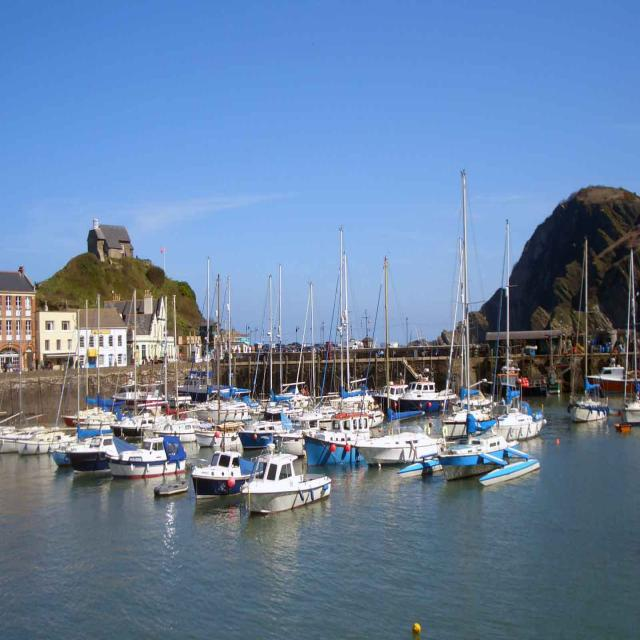houseboat: (246, 442, 324, 516), (438, 436, 503, 488), (478, 390, 538, 446), (65, 418, 117, 478), (188, 458, 246, 504), (108, 445, 182, 477), (394, 378, 445, 422), (571, 393, 605, 439)
